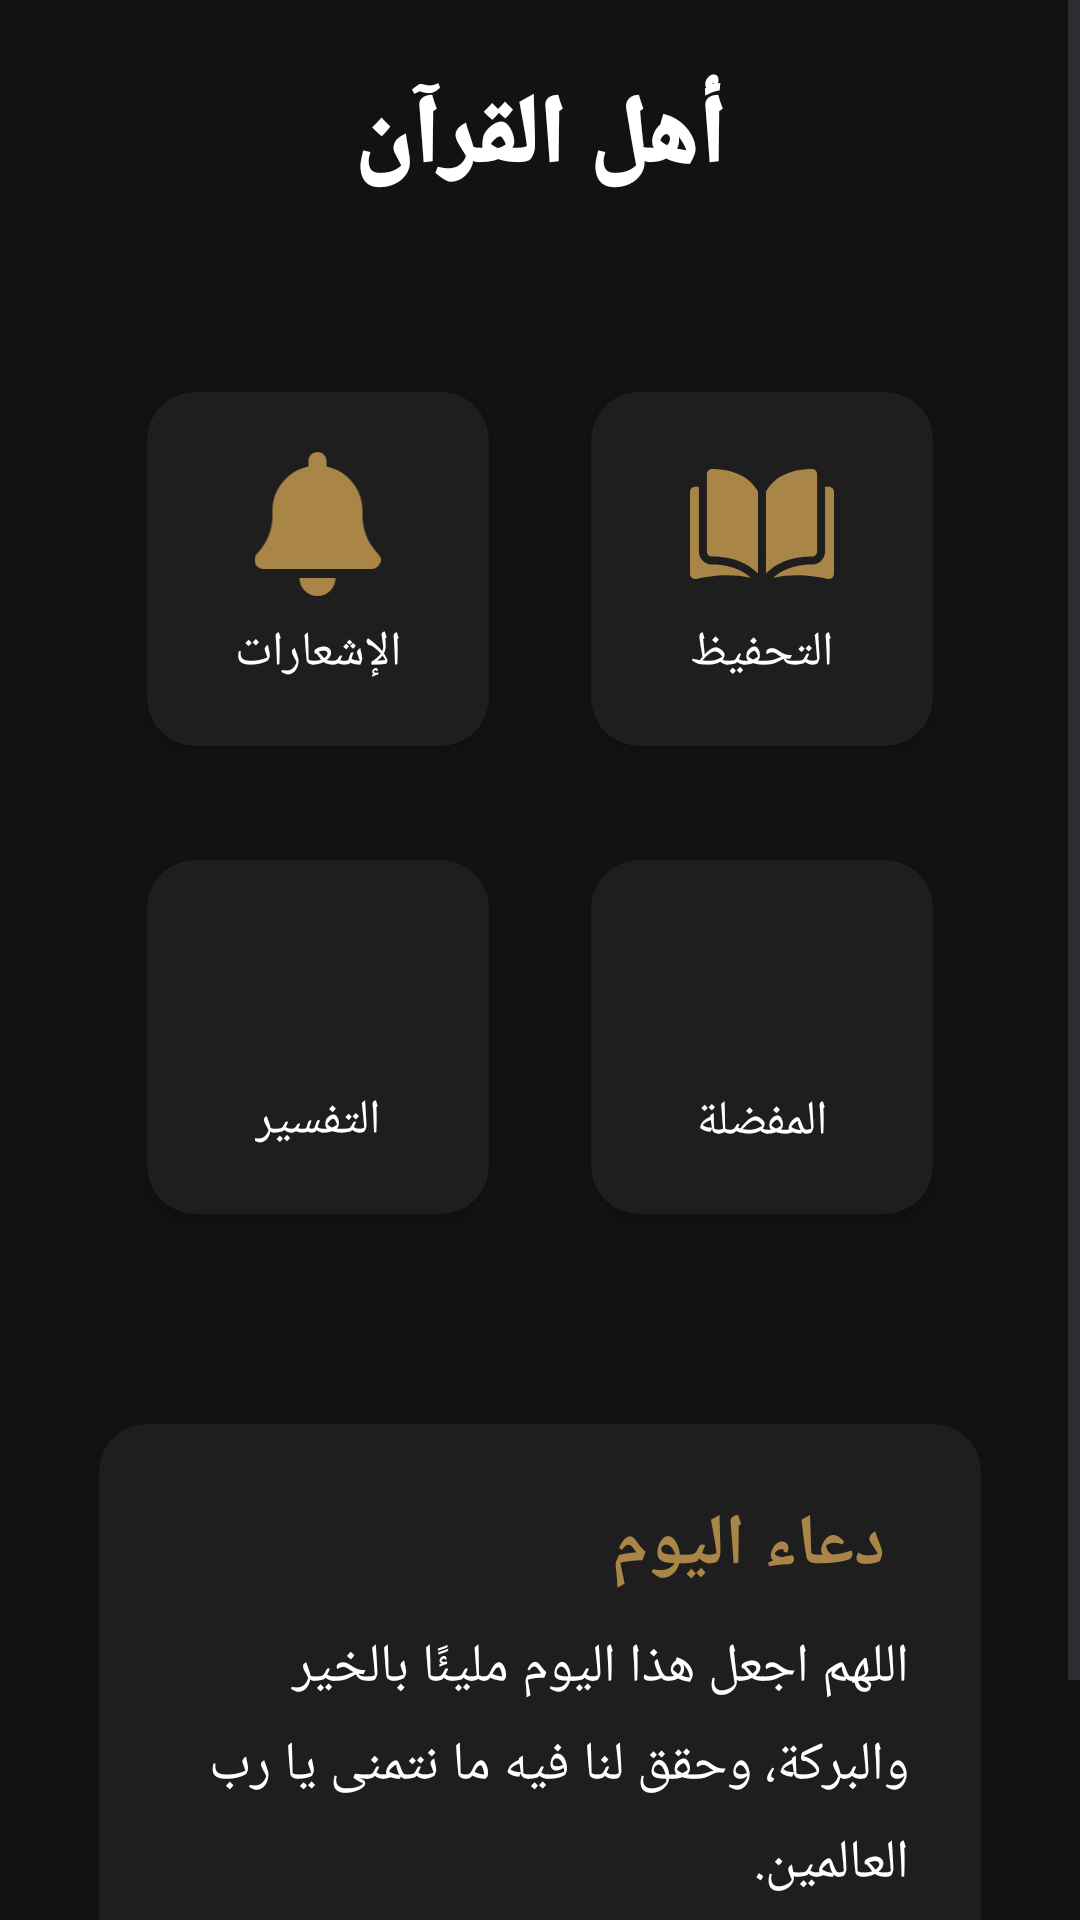

Icons on this 1080 x 1920 Android screen, each with its box as (x1, y1, x2, y2):
bell: (255, 452, 381, 596)
open book: (690, 469, 834, 579)
